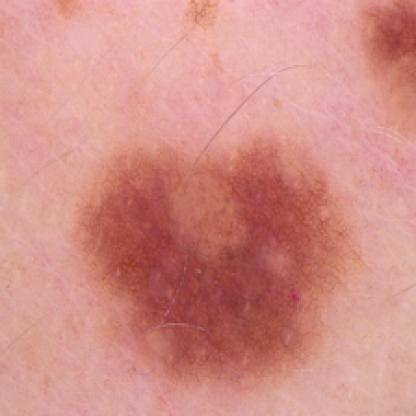benign: (86, 140, 323, 348)
